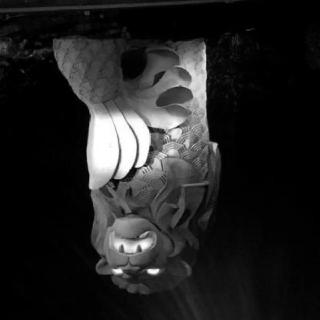other: (101, 233, 177, 283)
